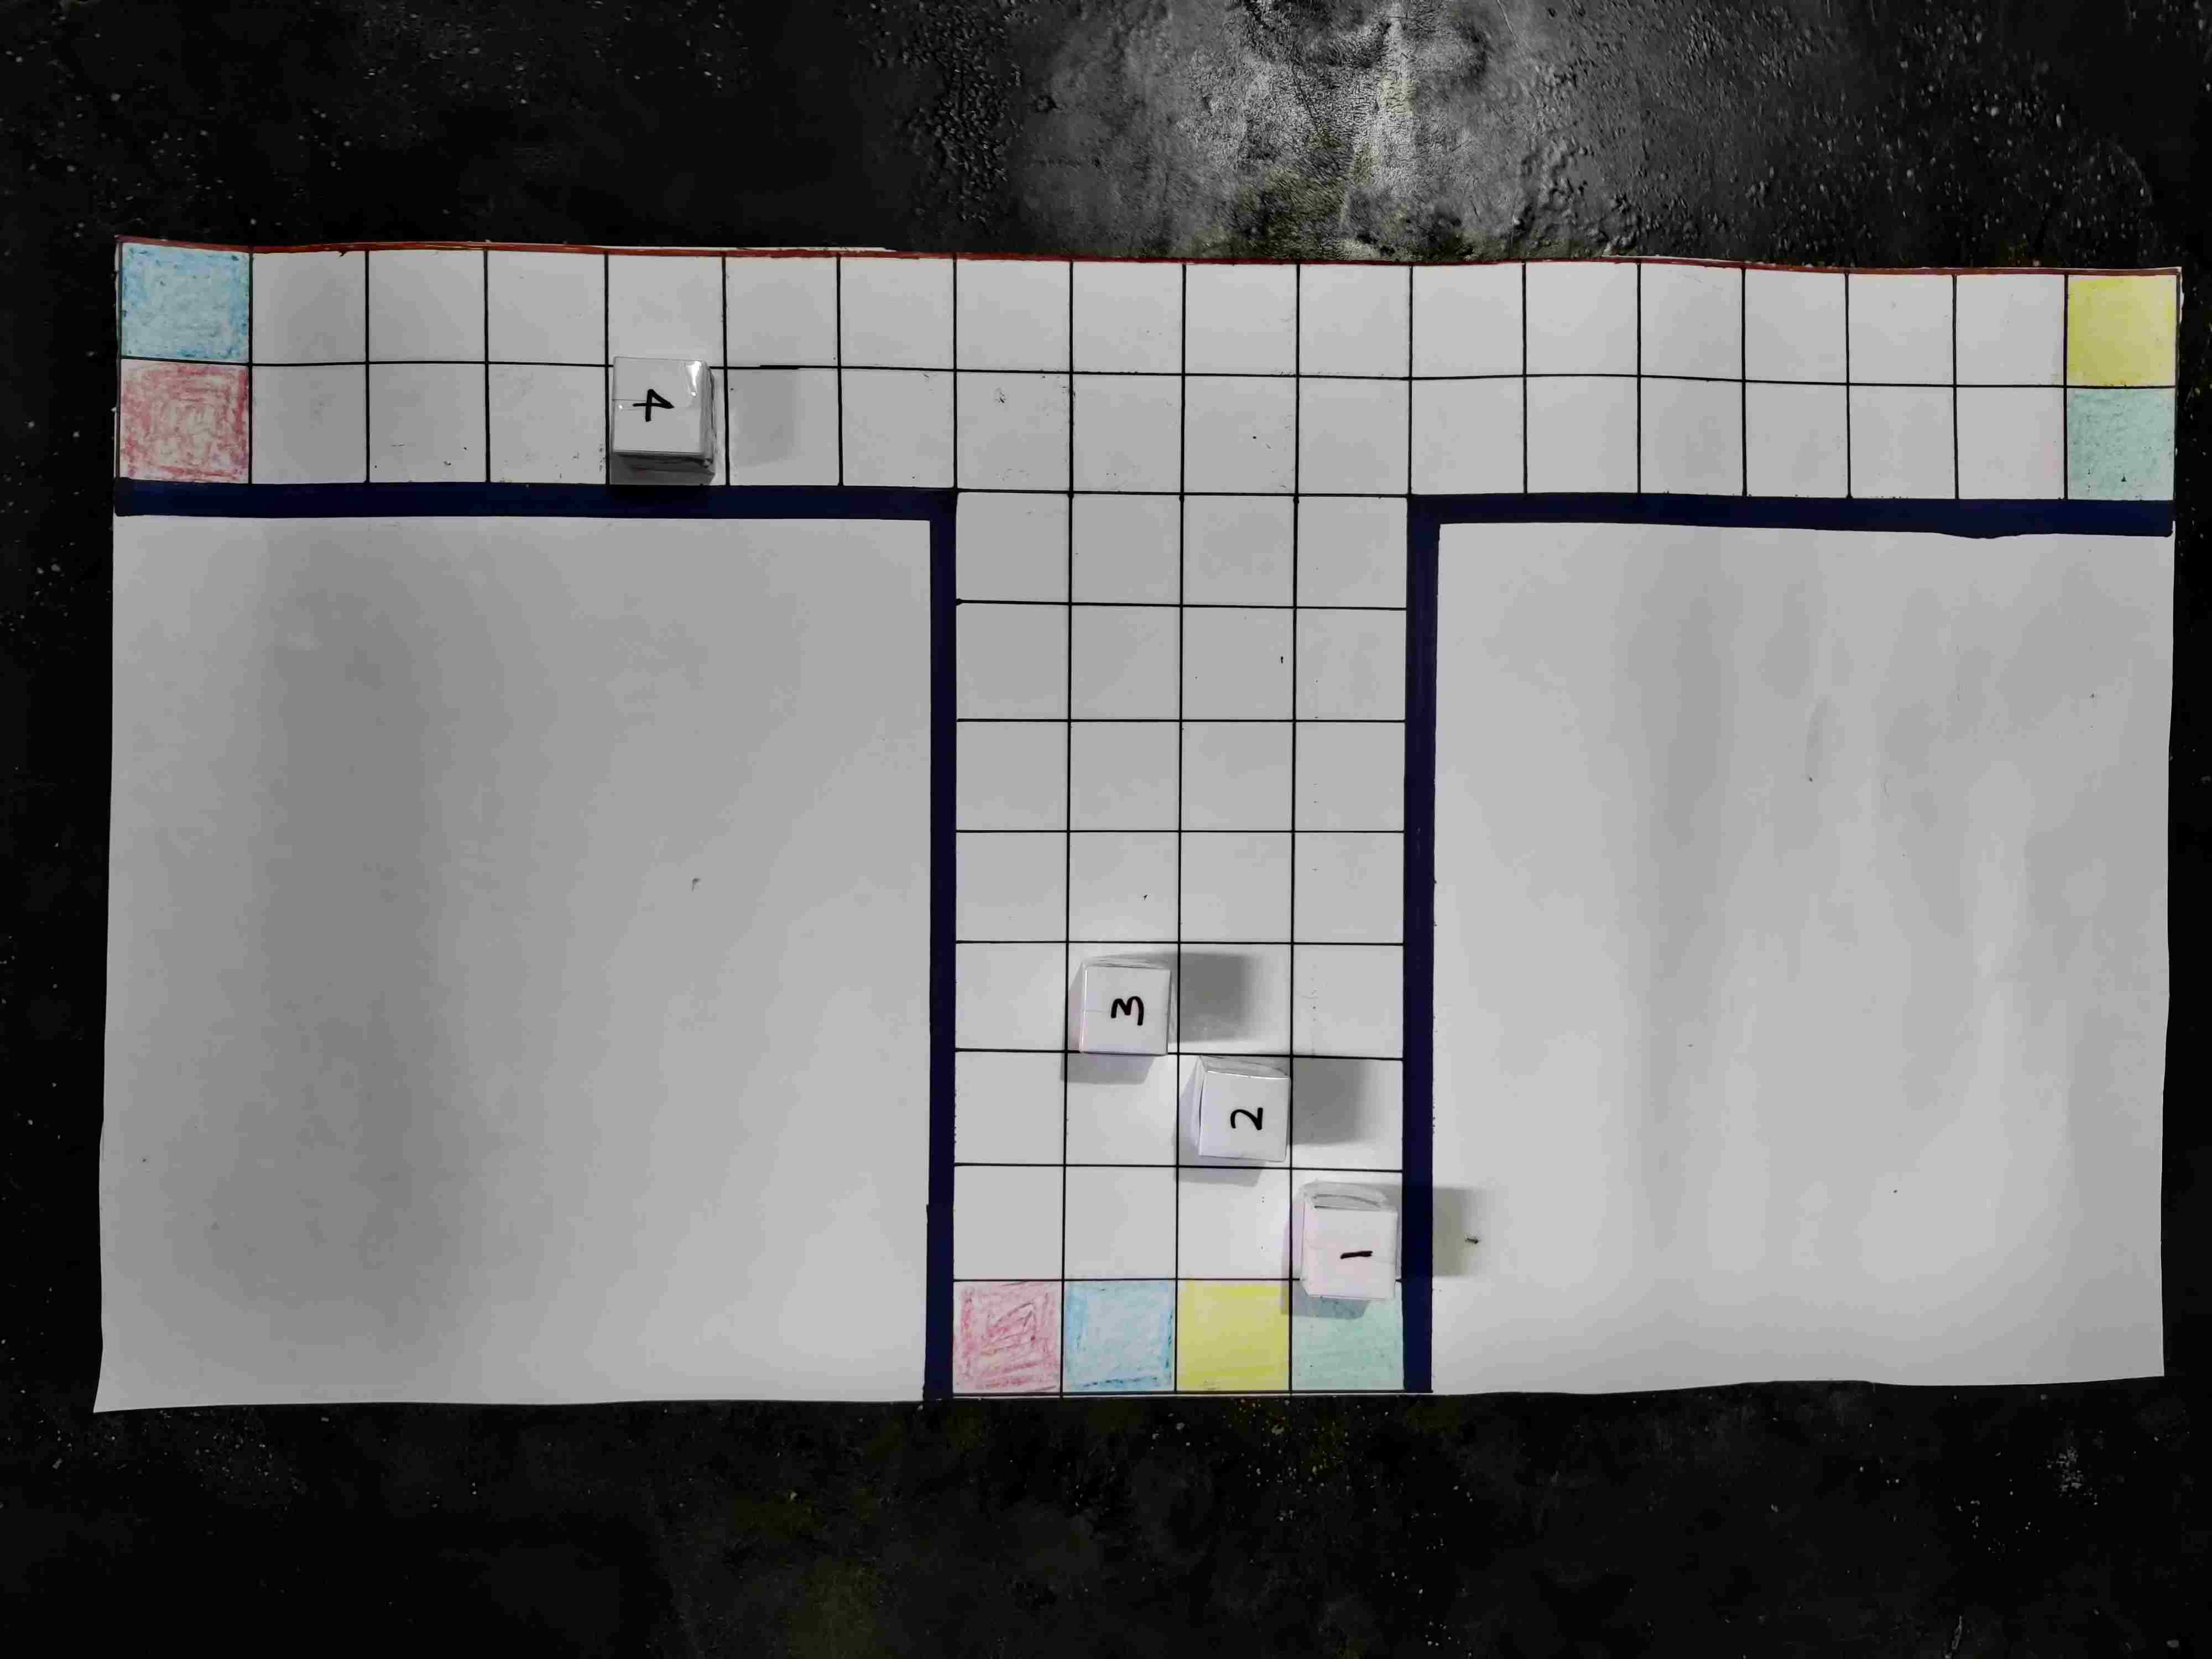arena: (209, 160, 2186, 1183)
bot: (1007, 714, 1101, 803), (573, 1159, 664, 1241), (2006, 990, 2088, 1075), (1216, 383, 1294, 458)
